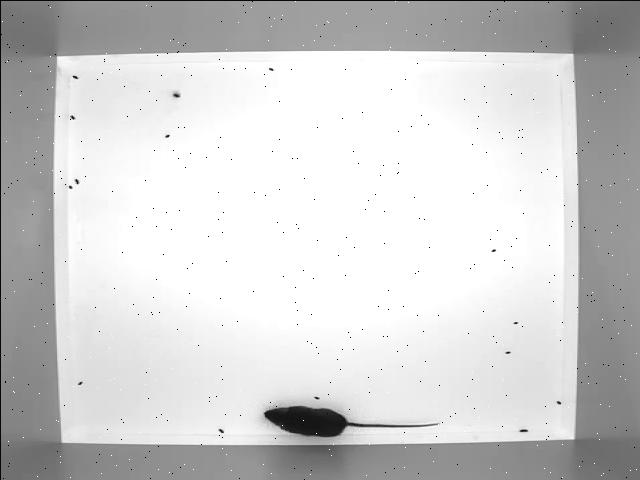Tikus: (260, 402, 440, 440)
